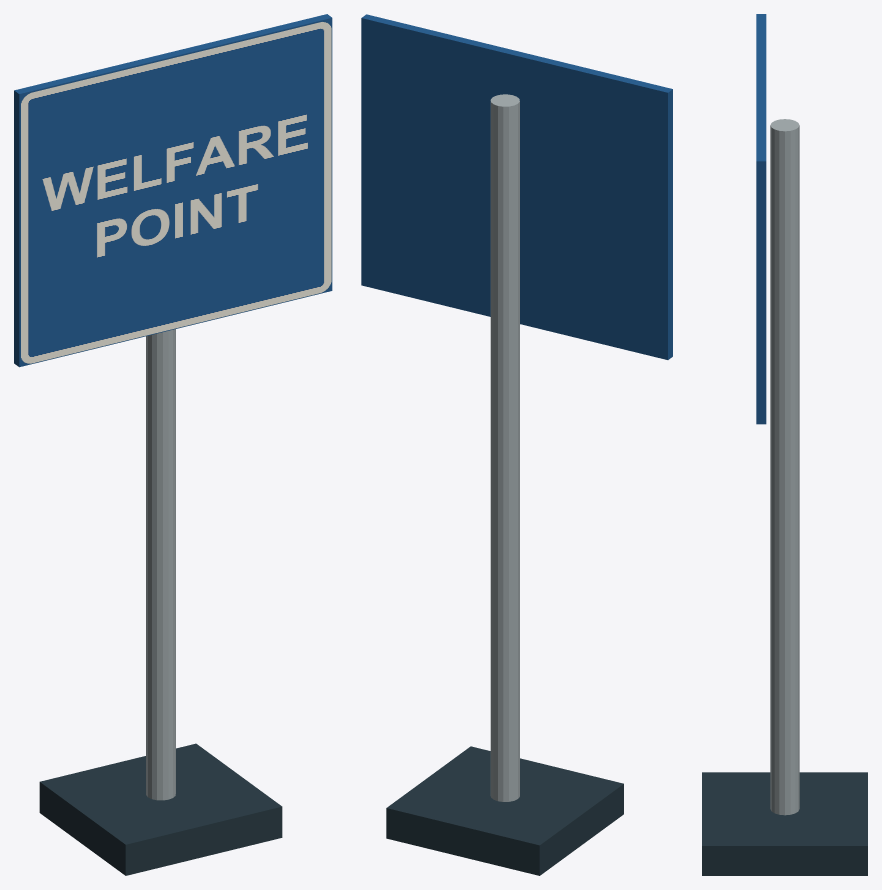
Rendered from scendance-plan-welfare-point.glb.
The picture shows the model from 3 angles, left to right: view 1: azimuth 30°, elevation 25°; view 2: azimuth 150°, elevation 25°; view 3: azimuth 270°, elevation 25°; orthographic projection. The views are drawn at different scales.
Size of the model in its own units: 0.84 by 2 by 0.4.
4 materials, 1 textured.
